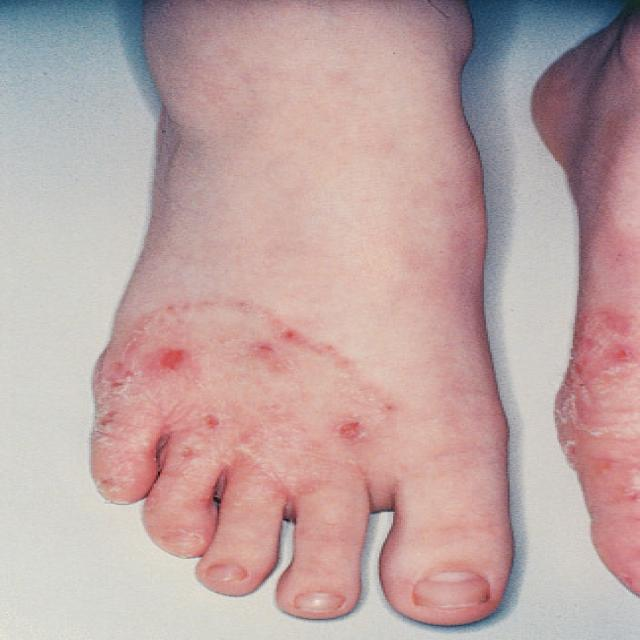eczema: (112, 313, 365, 486), (563, 318, 640, 482)
